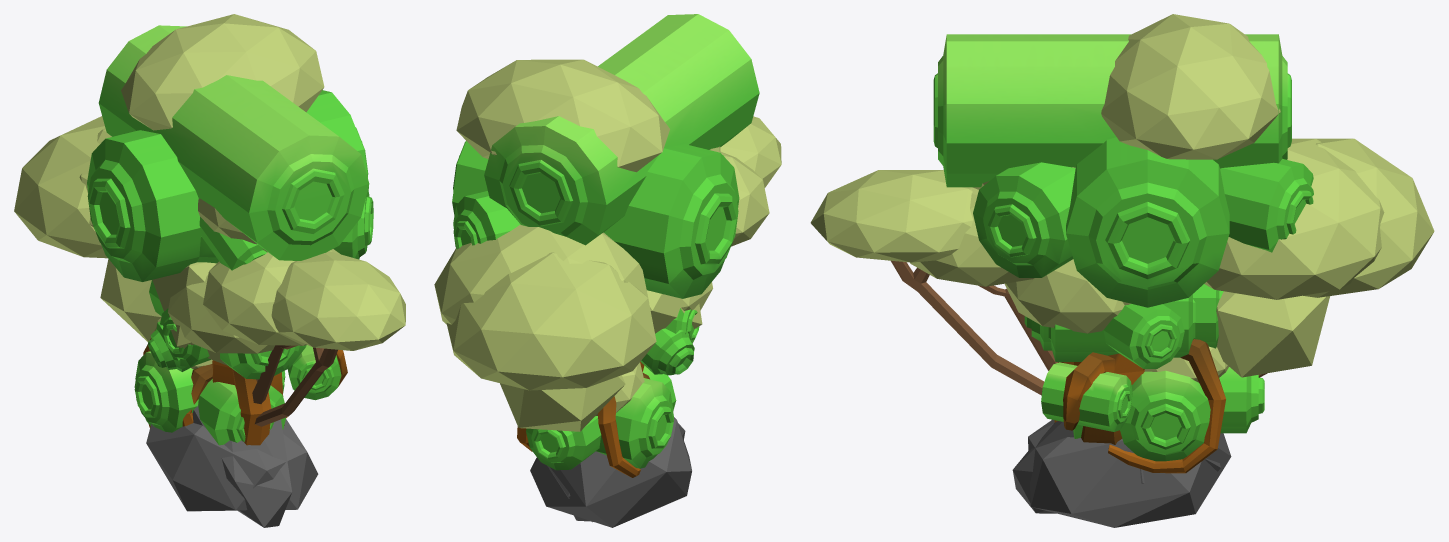
The model's file is nature.glb.
The picture shows the model from 3 angles, left to right: view 1: azimuth 30°, elevation 25°; view 2: azimuth 150°, elevation 25°; view 3: azimuth 270°, elevation 25°; orthographic projection. The views are drawn at different scales.
Parts seen in each view (by area): view 1: Cylinder.000, Tree4_Cylinder.003, Rock_Icosphere.001, Tree2_Icosphere.001, Bush_Cylinder, Tree3_Icosphere.008, Rock3_Icosphere, Bush_Cylinder.000, Tree1_Icosphere.002, Tree_Cylinder.005, Tree_Cylinder.000; view 2: Cylinder.000, Tree4_Cylinder.003, Tree2_Icosphere.001, Rock_Icosphere.001, Bush_Cylinder, Tree3_Icosphere.008, Tree_Cylinder.005, Tree1_Icosphere.002, Tree_Cylinder.000; view 3: Cylinder.000, Tree4_Cylinder.003, Tree2_Icosphere.001, Bush_Cylinder, Rock_Icosphere.001, Tree3_Icosphere.008, Tree1_Icosphere.002, Tree_Cylinder.005, Tree_Cylinder.000, Rock3_Icosphere.
Boxes of the visible parts, x1,y1,x2,y2 form: Cylinder.000: (87, 25, 373, 425); Tree4_Cylinder.003: (14, 14, 405, 426); Rock_Icosphere.001: (146, 419, 318, 511); Tree2_Icosphere.001: (79, 128, 340, 403); Bush_Cylinder: (134, 330, 287, 445); Tree3_Icosphere.008: (100, 259, 228, 365); Rock3_Icosphere: (192, 405, 292, 527); Bush_Cylinder.000: (182, 364, 285, 445); Tree1_Icosphere.002: (155, 263, 274, 369); Tree_Cylinder.005: (147, 280, 299, 379); Tree_Cylinder.000: (160, 308, 306, 375); Cylinder.000: (452, 14, 759, 371); Tree4_Cylinder.003: (446, 59, 781, 390); Tree2_Icosphere.001: (434, 151, 769, 324); Rock_Icosphere.001: (530, 417, 691, 527); Bush_Cylinder: (517, 378, 673, 477); Tree3_Icosphere.008: (500, 290, 702, 431); Tree_Cylinder.005: (640, 328, 694, 375); Tree1_Icosphere.002: (596, 282, 712, 415); Tree_Cylinder.000: (665, 308, 699, 343); Cylinder.000: (933, 34, 1313, 444); Tree4_Cylinder.003: (810, 14, 1434, 395); Tree2_Icosphere.001: (910, 139, 1384, 370); Bush_Cylinder: (1054, 339, 1264, 473); Rock_Icosphere.001: (1028, 419, 1231, 527); Tree3_Icosphere.008: (1123, 291, 1330, 377); Tree1_Icosphere.002: (1004, 259, 1228, 382); Tree_Cylinder.005: (1024, 284, 1223, 368); Tree_Cylinder.000: (1048, 294, 1195, 361); Rock3_Icosphere: (1012, 421, 1220, 513).
Bounding box in the file's own units: 4.01 × 6.96 × 7.96.
Materials: 10 (5 with a texture image).
